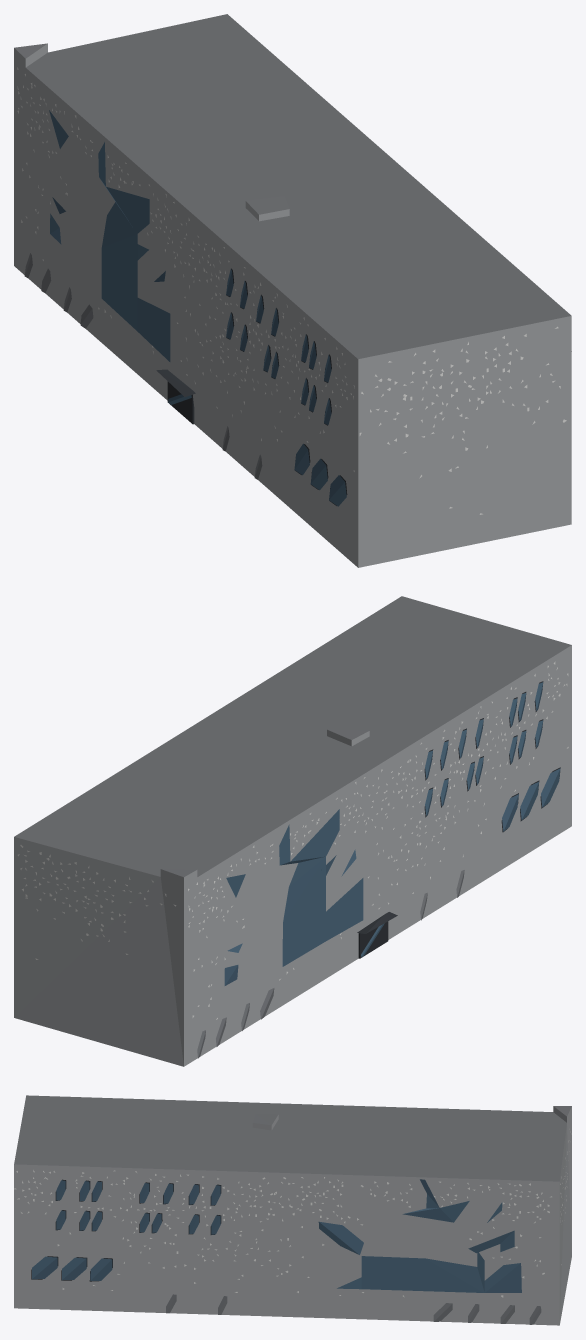
File: ljg-synagoge.lod1.glb
3 views of the same model, one above another, from view 1: azimuth 30°, elevation 25°; view 2: azimuth 150°, elevation 25°; view 3: azimuth 270°, elevation 25° (orthographic). The views are drawn at different scales.
Parts seen in each view (by area): view 1: ljg-synagoge; view 2: ljg-synagoge; view 3: ljg-synagoge.
Boxes of the visible parts, <box> form: ljg-synagoge: <box>14,14,571,567</box>; ljg-synagoge: <box>14,596,571,1066</box>; ljg-synagoge: <box>14,1095,571,1325</box>.
Bounding box in the file's own units: 21.38 × 17.43 × 58.53.
